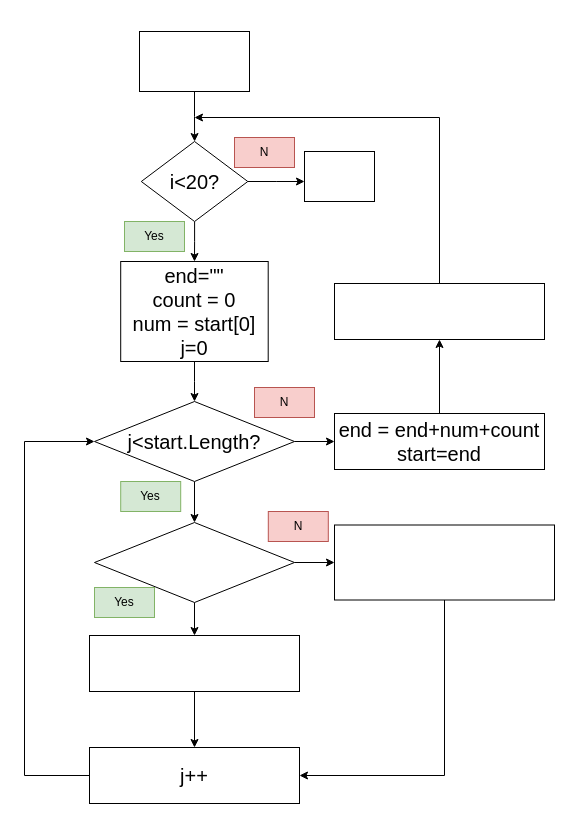
This 572x821 diagram has some shape labels left out. The shapes that lost their labels are listed below. From the top down, each one's box as (x1, y1, x2, y2) in pixels, then its label:
(138, 30, 250, 92): start = "1" i = 0
(304, 150, 374, 202): 종료
(334, 282, 544, 340): i++
(94, 522, 294, 602): num==start[j]?
(334, 524, 554, 600): end=end+num+count count=1 num=start[j]
(88, 634, 300, 692): count++
